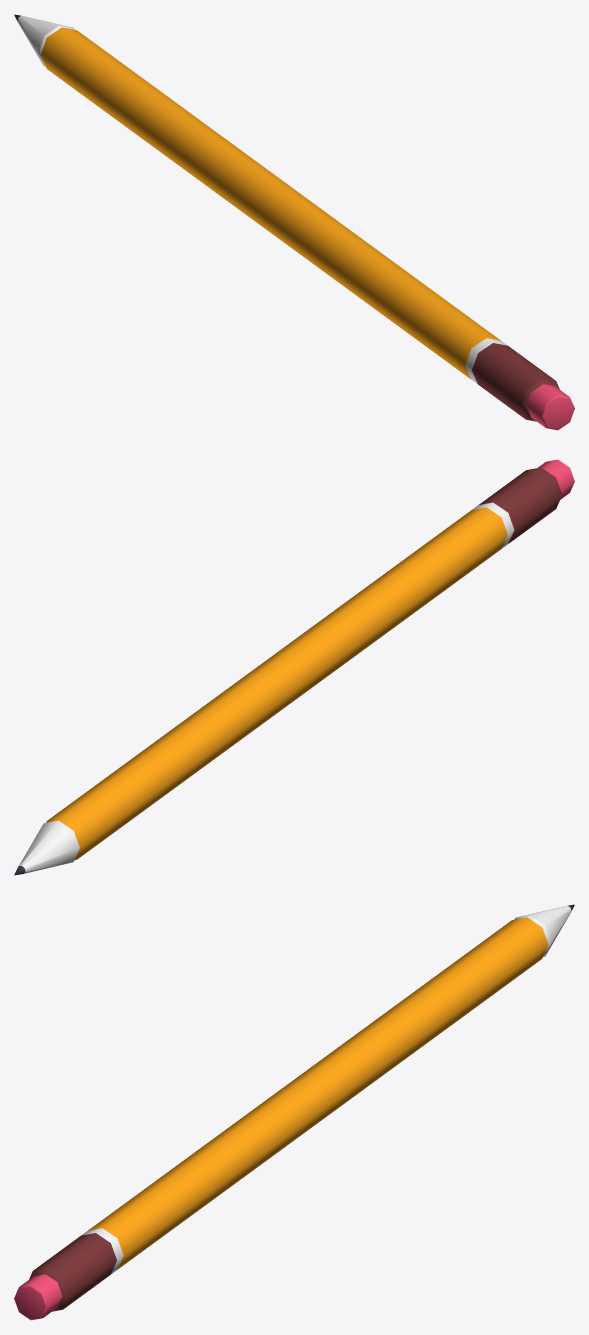
The model's file is M_Pencil.fbx.
3 renders of one model, top to bottom at view 1: azimuth 30°, elevation 25°; view 2: azimuth 150°, elevation 25°; view 3: azimuth 330°, elevation 25°, orthographic.
Parts seen in each view (by area): view 1: M_Pencil; view 2: M_Pencil; view 3: M_Pencil.
Part boxes in pixels (x1,y1,x2,y2): M_Pencil: [14, 14, 574, 430]; M_Pencil: [14, 459, 574, 875]; M_Pencil: [14, 904, 574, 1320].
Size of the model in its own units: 0.0187 by 0.0188 by 0.4154.
1 material, 1 textured.
